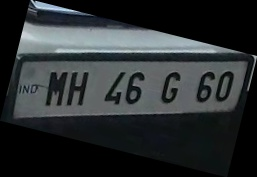character: (45, 70, 68, 107), (65, 70, 88, 105), (104, 71, 125, 104), (125, 70, 144, 104), (161, 70, 180, 104), (196, 69, 215, 102), (215, 70, 234, 102)
